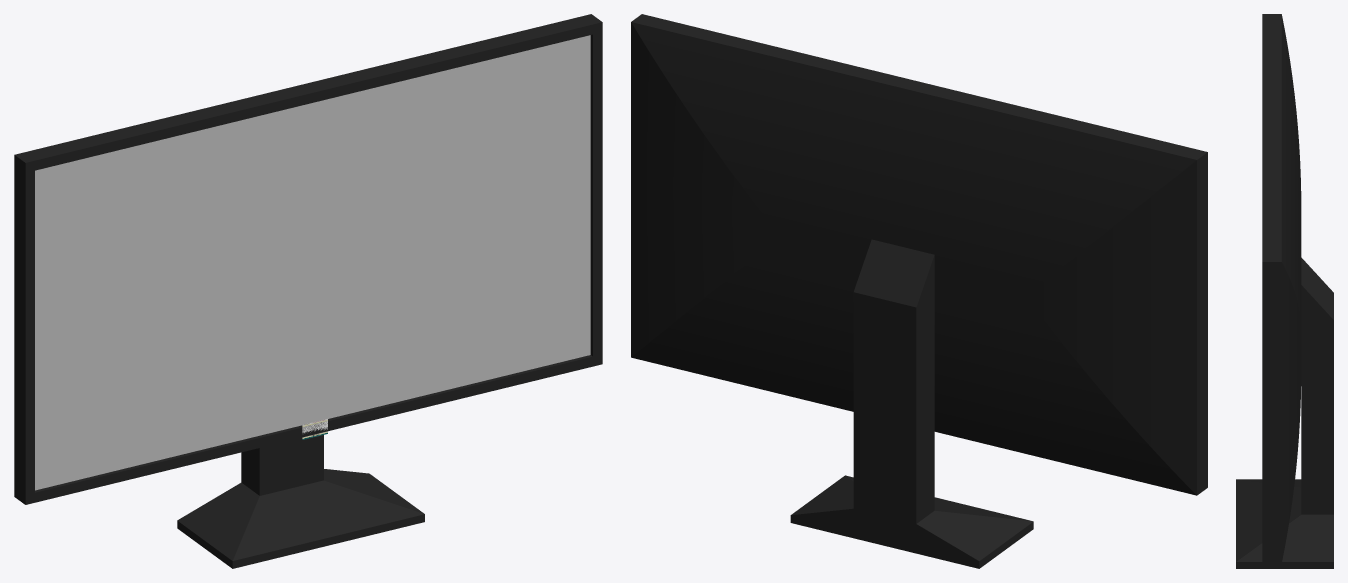
The model's file is monitor.dae.
3 views of the same model, side by side, from view 1: azimuth 30°, elevation 25°; view 2: azimuth 150°, elevation 25°; view 3: azimuth 270°, elevation 25° (orthographic). The views are drawn at different scales.
Parts seen in each view (by area): view 1: image_1, moniter (×2), stand; view 2: moniter, stand; view 3: moniter, stand.
Boxes of the visible parts, x1,y1,x2,y2 form: image_1: (35, 35, 590, 490); moniter (×2): (14, 14, 602, 504); stand: (177, 435, 424, 568); moniter: (631, 14, 1207, 495); stand: (790, 239, 1033, 568); moniter: (1262, 14, 1301, 563); stand: (1236, 257, 1333, 568).
Size of the model in its own units: 23.62 by 3.94 by 17.3.
